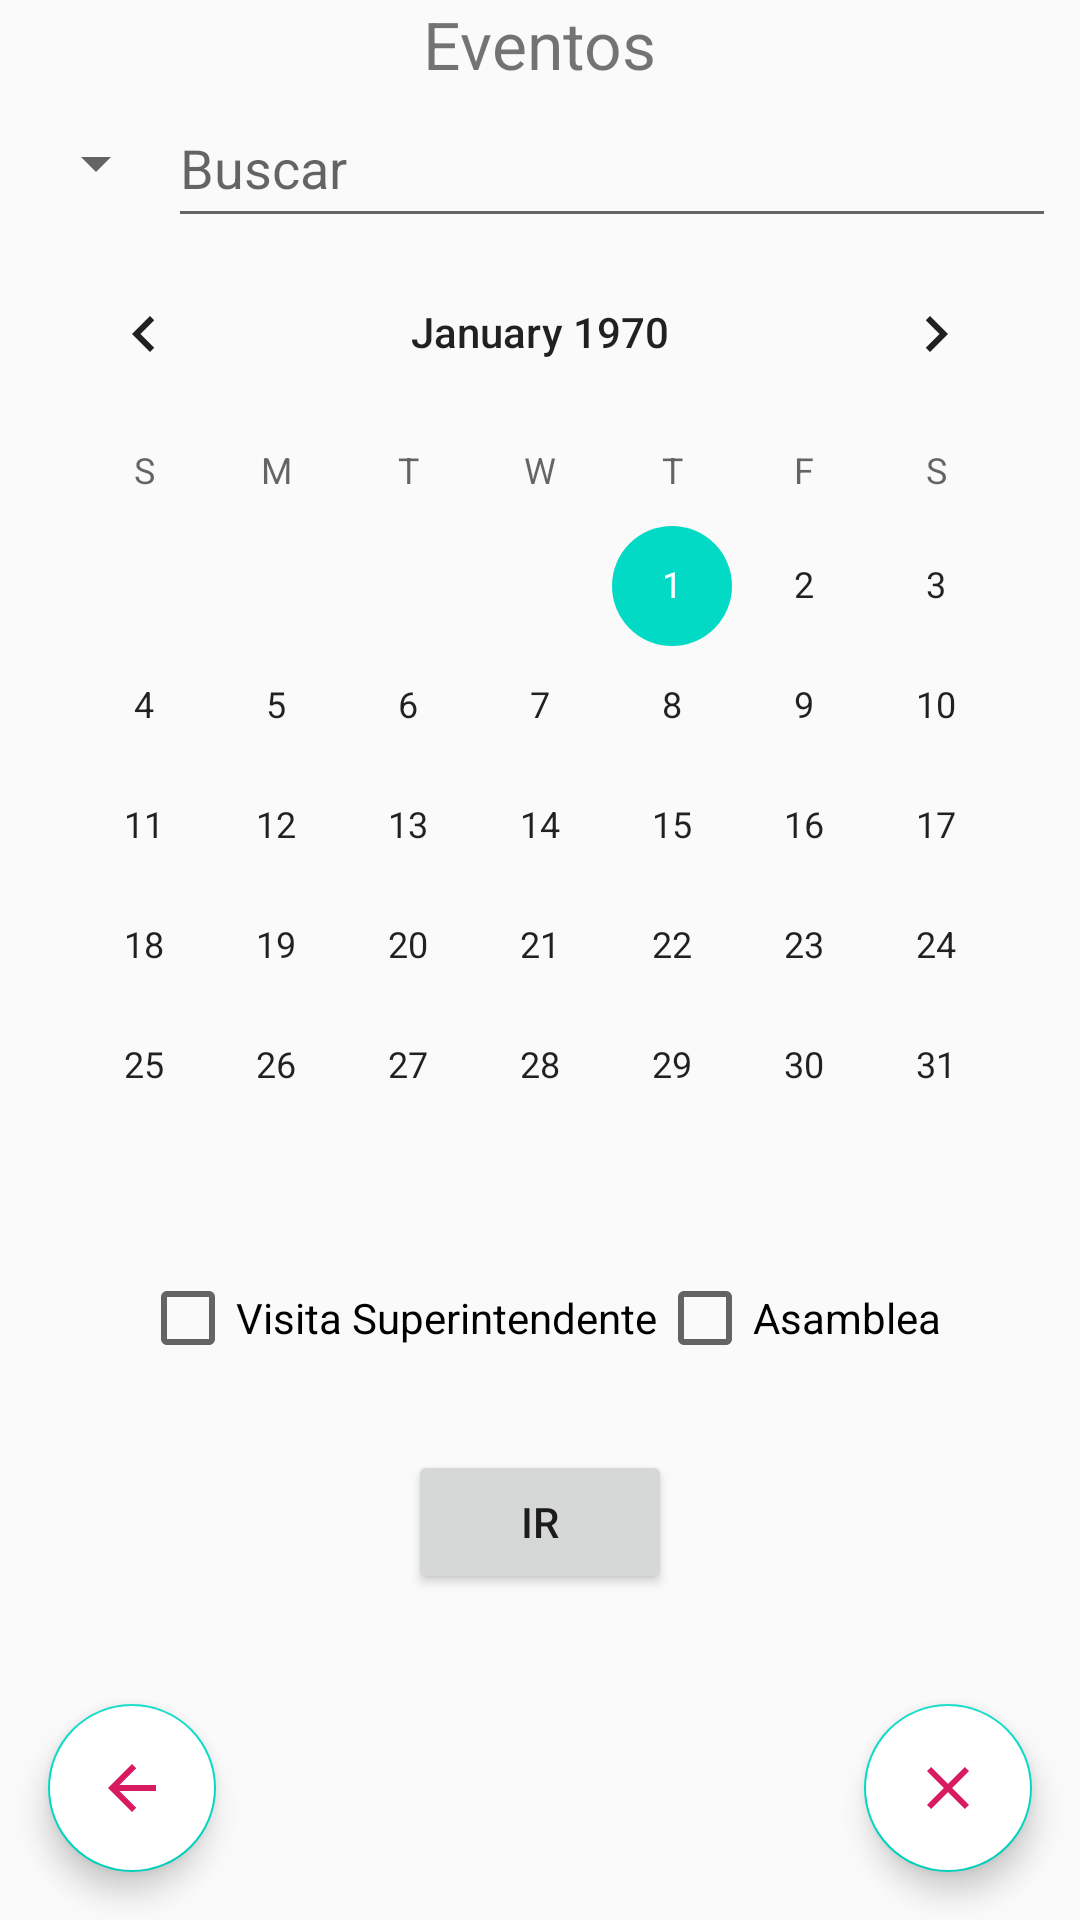

Icon bounding boxes for this 1080px×1920px phone screenshot, format (x1, y1, x2, y2):
back selec: (48, 1704, 216, 1872)
cerrar: (864, 1704, 1032, 1872)
